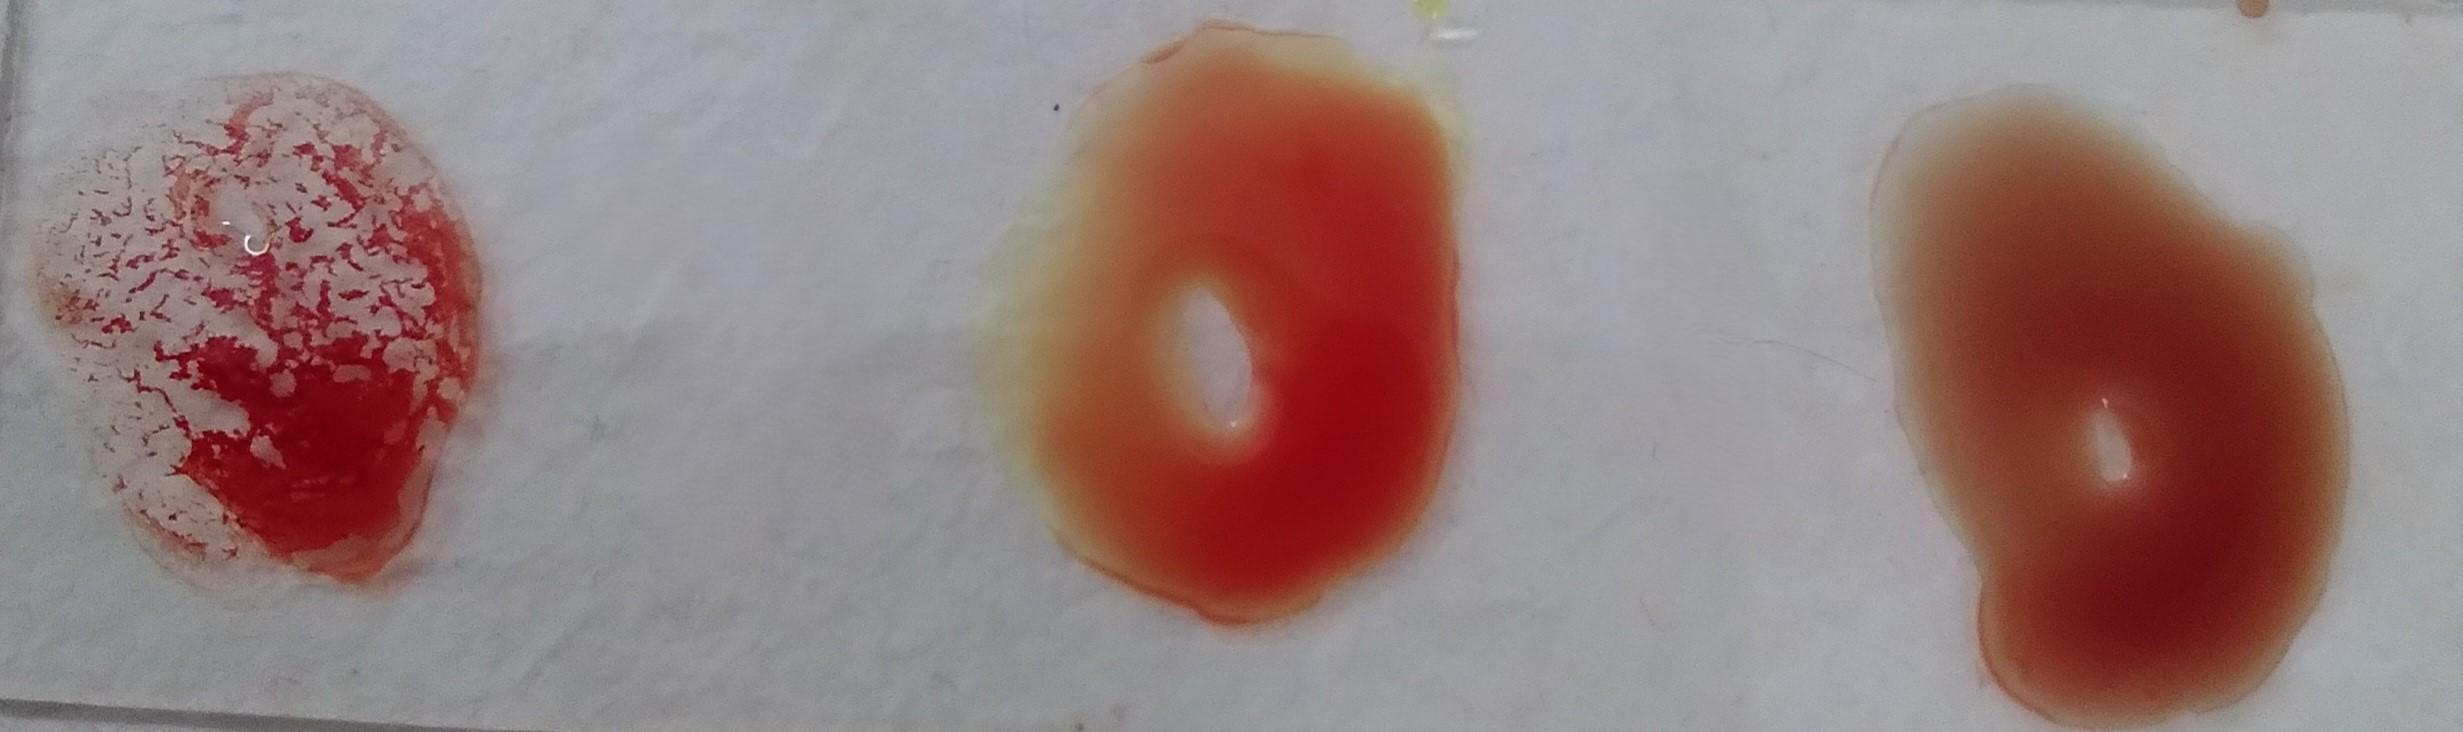D: (28, 83, 463, 598)
